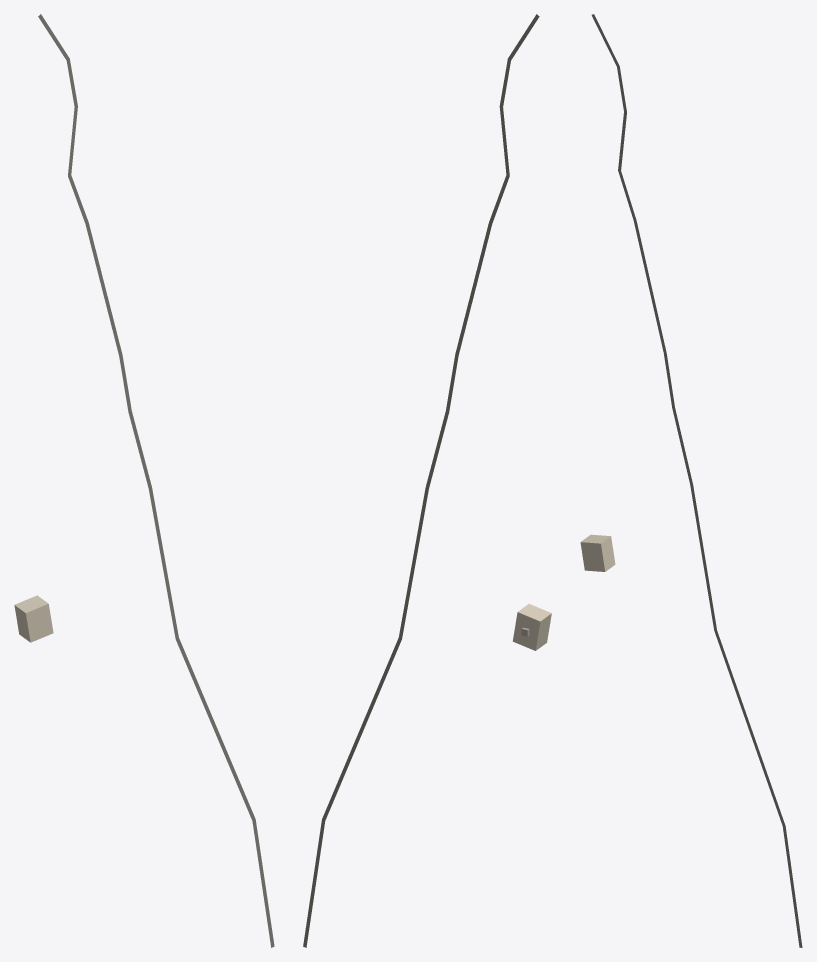
Rendered from historic-palestine-11_24_3525_3188.glb.
3 views of the same model, side by side, from view 1: azimuth 30°, elevation 25°; view 2: azimuth 150°, elevation 25°; view 3: azimuth 330°, elevation 25° (orthographic). The views are drawn at different scales.
Parts seen in each view (by area): view 1: Road, Building_; view 2: Road, Building_; view 3: Road, Building_.
Boxes of the visible parts, left/top/right/bottom form: Road: left=38, top=14, right=274, bottom=947; Building_: left=14, top=595, right=53, bottom=642; Road: left=303, top=14, right=539, bottom=947; Building_: left=512, top=604, right=551, bottom=650; Road: left=591, top=14, right=802, bottom=947; Building_: left=580, top=534, right=615, bottom=571.
Size of the model in its own units: 94.21 by 358 by 8.7.
